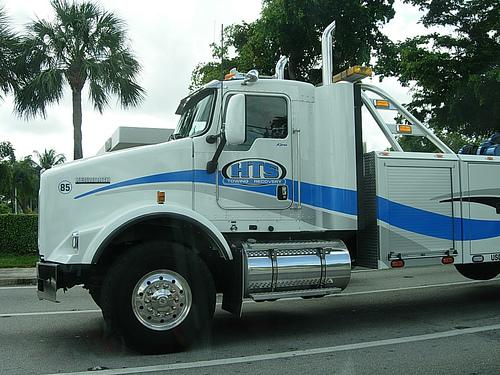truck: (37, 19, 500, 356)
